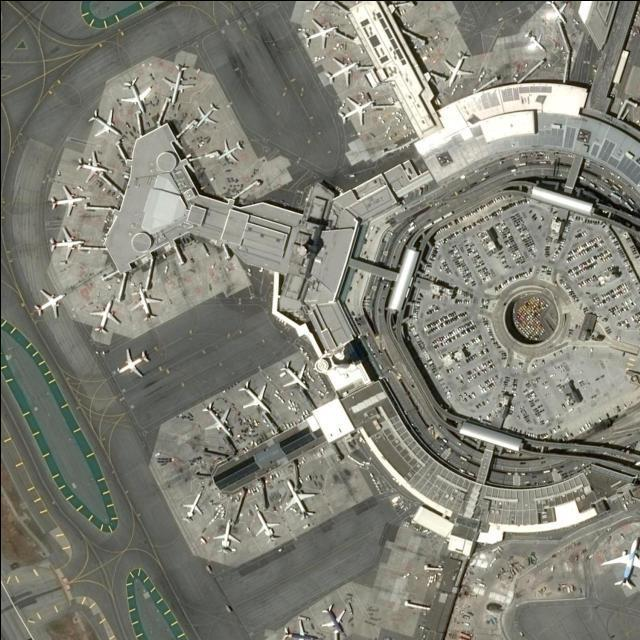Aircraft: (602, 530, 640, 591), (285, 474, 321, 520), (88, 104, 124, 140), (198, 398, 233, 435), (49, 182, 87, 216), (300, 17, 340, 49), (121, 75, 153, 113), (115, 346, 153, 376), (280, 358, 311, 394), (239, 380, 271, 414), (339, 94, 375, 124), (71, 148, 107, 178), (35, 283, 65, 319), (92, 297, 123, 331), (167, 61, 194, 99), (446, 49, 476, 83), (325, 53, 359, 83), (132, 284, 162, 318), (252, 502, 281, 536), (323, 602, 348, 638), (215, 518, 243, 550), (285, 616, 319, 639), (182, 492, 206, 519)
